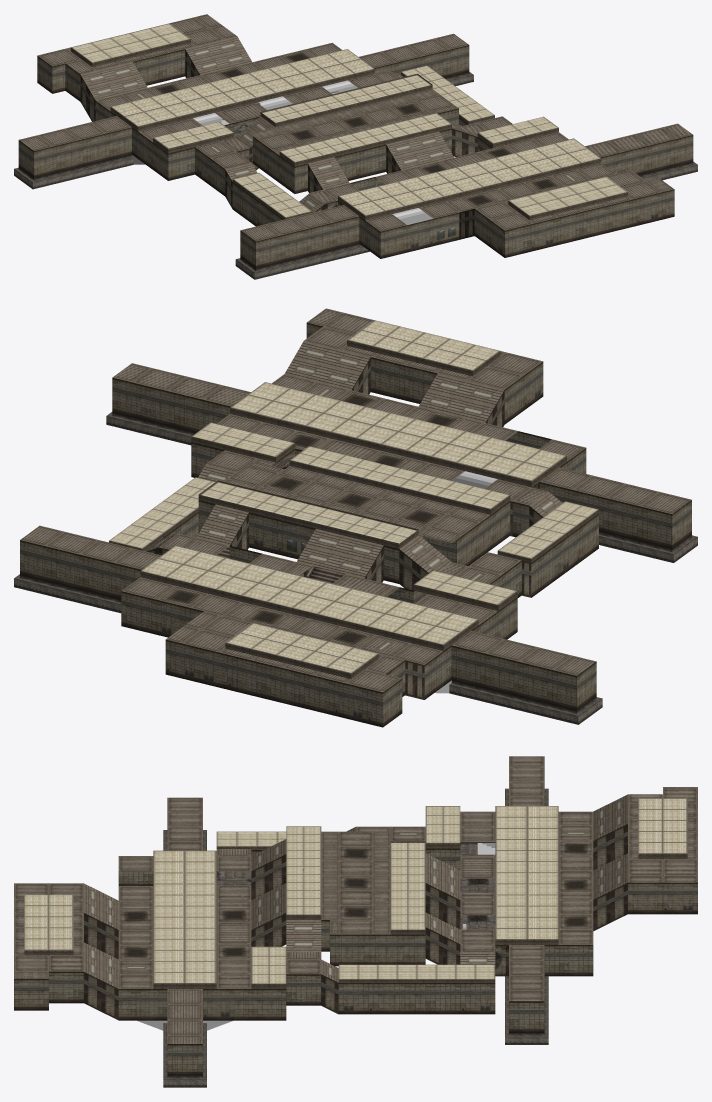
The model's file is DSquad_World.obj.
3 renders of one model, top to bottom at view 1: azimuth 30°, elevation 25°; view 2: azimuth 150°, elevation 25°; view 3: azimuth 270°, elevation 25°, orthographic. The views are drawn at different scales.
Visible parts, largest first — view 1: D-Sguad_World, D-Sguad_Object; view 2: D-Sguad_World; view 3: D-Sguad_World.
Part boxes in pixels (box(x1,y1,x2,y2)): D-Sguad_World: box(14, 14, 697, 279); D-Sguad_Object: box(193, 80, 432, 224); D-Sguad_World: box(14, 308, 697, 727); D-Sguad_World: box(14, 756, 697, 1087).
Size of the model in its own units: 91.02 by 9.35 by 90.38.
